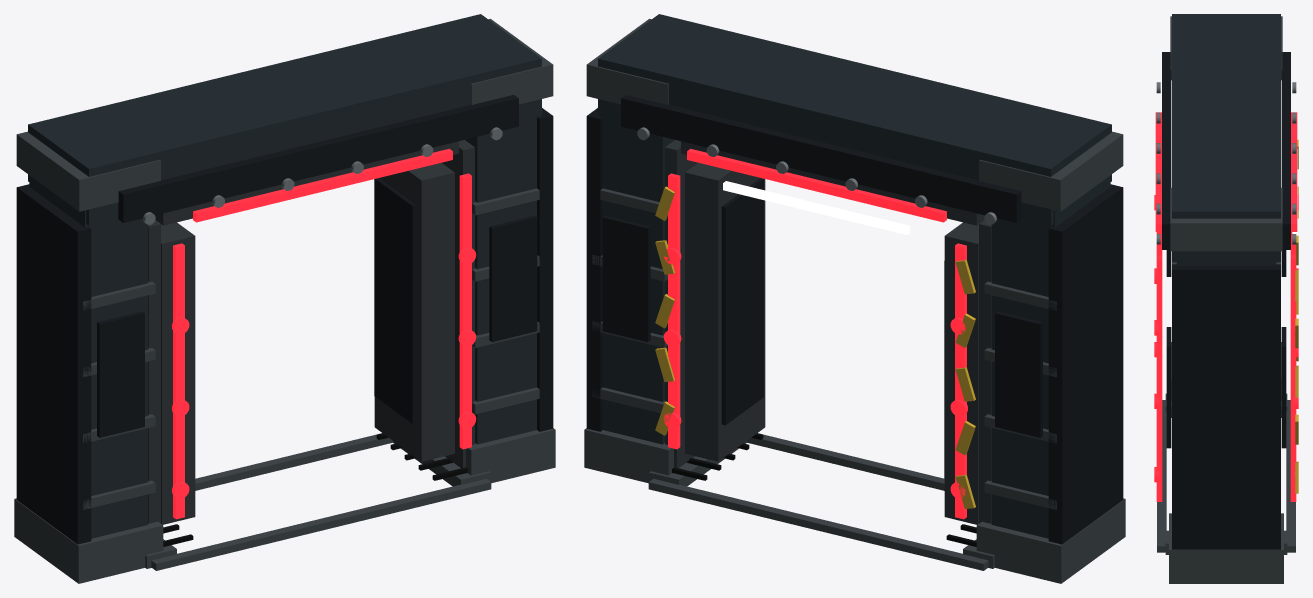
The model's file is blast-gate.glb.
3 views of the same model, side by side, from view 1: azimuth 30°, elevation 25°; view 2: azimuth 150°, elevation 25°; view 3: azimuth 270°, elevation 25° (orthographic). The views are drawn at different scales.
Visible parts, largest first — view 1: UpperBeamMain, LeftPylonOuterArmor, RightHalfOpenDoorSlab, UpperBeamBackArmor, RightPylonCore, LeftPylonCore, RightDoorInsetPanel, LeftHalfOpenDoorSlab, LeftPylonBaseFoot, RightPylonRearServicePanel, LeftPylonRearServicePanel, RightPylonOuterArmor (+16 smaller); view 2: UpperBeamMain, LeftPylonOuterArmor, UpperBeamFrontArmor, RightHalfOpenDoorSlab, LeftPylonCore, RightPylonCore, RightDoorInsetPanel, LeftHalfOpenDoorSlab, LeftPylonBaseFoot, RightPylonFrontServicePanel, LeftPylonFrontServicePanel, RightPylonOuterArmor (+17 smaller); view 3: RightPylonOuterArmor, UpperBeamMain, RightPylonBaseFoot, RightPylonTopCap, UpperBeamFrontArmor, UpperBeamBackArmor, IdleRedVerticalStrip22, RightPylonCore, IdleRedVerticalStrip21, FrontThresholdLip, RearThresholdLip, RightPylonFrontServicePanel (+4 smaller).
Part boxes in pixels (x1,y1,x2,y2): UpperBeamMain: (28, 14, 541, 225); LeftPylonOuterArmor: (16, 184, 91, 544); RightHalfOpenDoorSlab: (374, 162, 454, 461); UpperBeamBackArmor: (118, 95, 518, 222); RightPylonCore: (465, 116, 540, 444); LeftPylonCore: (29, 175, 148, 538); RightDoorInsetPanel: (374, 178, 416, 423); LeftHalfOpenDoorSlab: (161, 222, 195, 524); LeftPylonBaseFoot: (14, 498, 163, 583); RightPylonRearServicePanel: (489, 215, 537, 342); LeftPylonRearServicePanel: (97, 311, 144, 437); RightPylonOuterArmor: (537, 108, 553, 431); UpperBeamMain: (598, 14, 1111, 225); LeftPylonOuterArmor: (1048, 184, 1123, 544); UpperBeamFrontArmor: (621, 95, 1021, 222); RightHalfOpenDoorSlab: (685, 162, 765, 461); LeftPylonCore: (991, 175, 1110, 538); RightPylonCore: (599, 116, 674, 444); RightDoorInsetPanel: (721, 178, 763, 425); LeftHalfOpenDoorSlab: (944, 222, 978, 524); LeftPylonBaseFoot: (976, 498, 1125, 583); RightPylonFrontServicePanel: (602, 215, 650, 342); LeftPylonFrontServicePanel: (995, 311, 1042, 437); RightPylonOuterArmor: (586, 108, 602, 431); RightPylonOuterArmor: (1172, 264, 1280, 549); UpperBeamMain: (1172, 14, 1280, 262); RightPylonBaseFoot: (1169, 513, 1283, 583); RightPylonTopCap: (1170, 187, 1282, 251); UpperBeamFrontArmor: (1281, 52, 1290, 249); UpperBeamBackArmor: (1162, 52, 1171, 249); IdleRedVerticalStrip22: (1156, 255, 1162, 501); RightPylonCore: (1176, 251, 1276, 265); IdleRedVerticalStrip21: (1290, 255, 1296, 501); FrontThresholdLip: (1286, 400, 1295, 552); RearThresholdLip: (1157, 400, 1166, 552); RightPylonFrontServicePanel: (1281, 327, 1286, 448).
Size of the model in its own units: 3.16 by 2.6 by 0.926.
